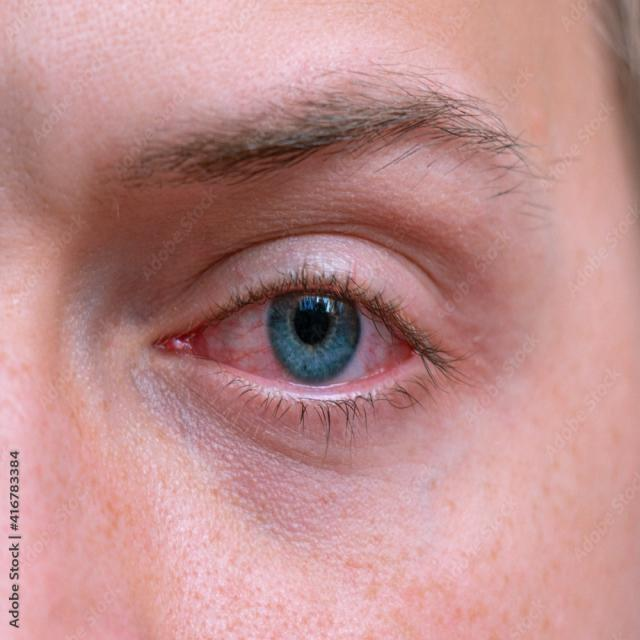Conjunctivitis: (147, 290, 384, 395)
